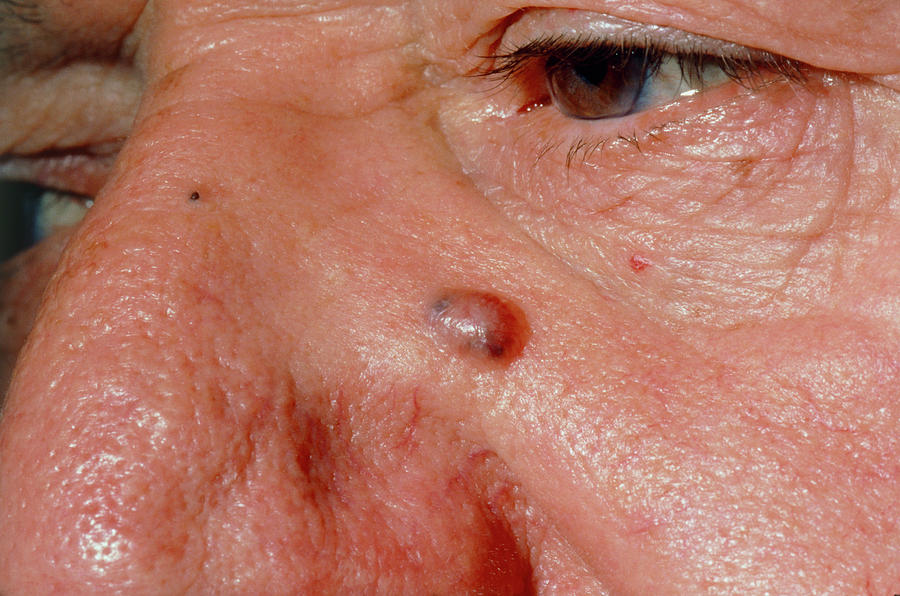Basa Cell Carcinoma: (390, 261, 547, 393)
